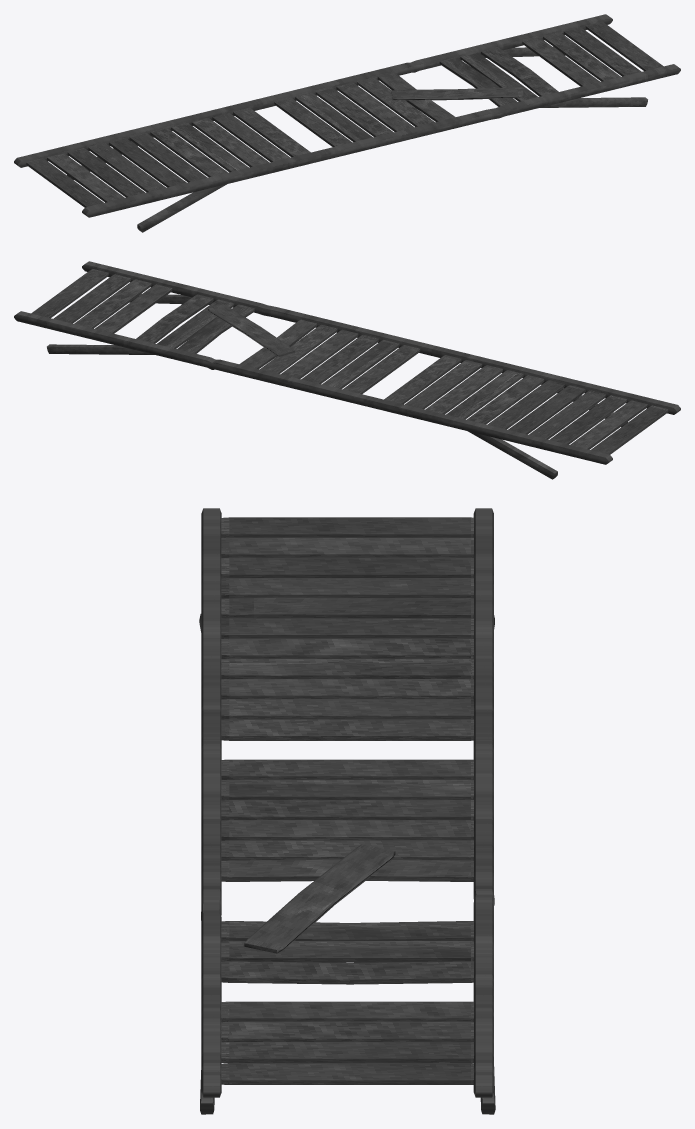
Rendered from broken_bridge_01.glb.
3 renders of one model, top to bottom at view 1: azimuth 30°, elevation 25°; view 2: azimuth 150°, elevation 25°; view 3: azimuth 270°, elevation 25°, orthographic. The views are drawn at different scales.
Visible parts, largest first — view 1: Broken_Bridge_01; view 2: Broken_Bridge_01; view 3: Broken_Bridge_01.
Boxes of the visible parts, box(x1,y1,x2,y2) form: Broken_Bridge_01: box(14, 14, 680, 232); Broken_Bridge_01: box(14, 261, 680, 479); Broken_Bridge_01: box(199, 508, 495, 1114).
Size of what is drawn, in the model's own units: 122 by 6.79 by 26.35.
Materials: 2 (2 with a texture image).
